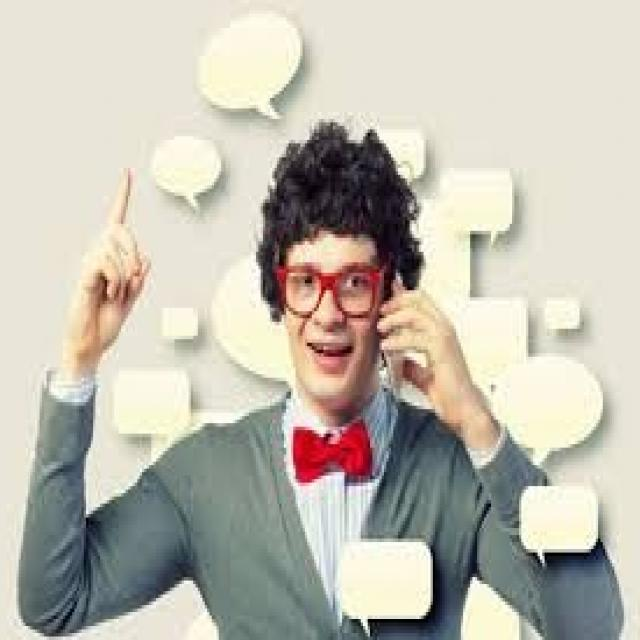phone: (338, 227, 452, 441)
